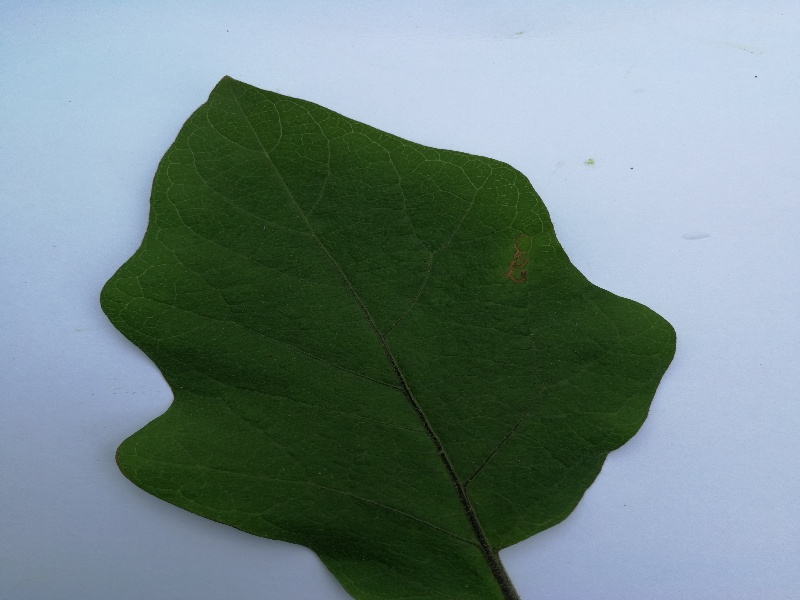leafminer: (501, 235, 538, 292)
